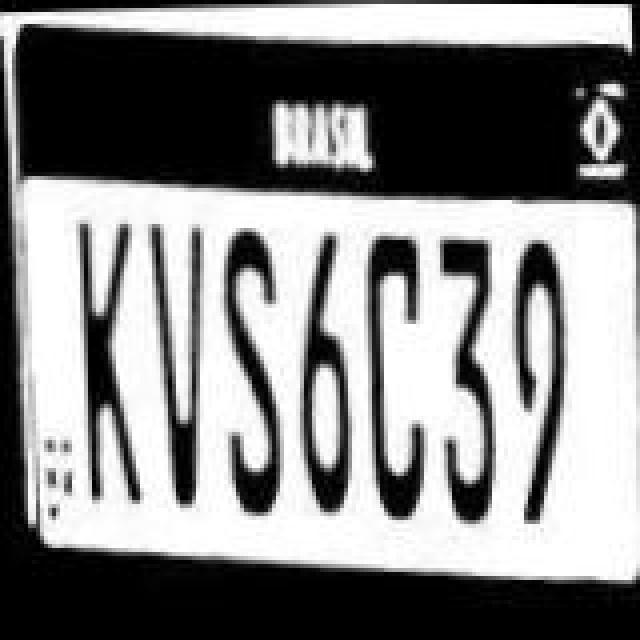3: (424, 214, 504, 534)
6: (282, 214, 366, 526)
9: (490, 230, 574, 546)
C: (358, 210, 434, 526)
K: (56, 204, 144, 516)
S: (206, 210, 290, 518)
V: (140, 210, 212, 526)
